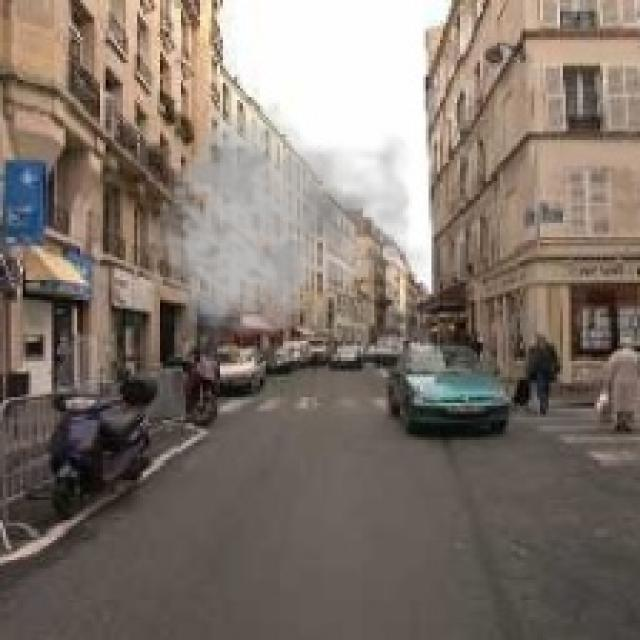Smoke: (154, 92, 432, 348)
